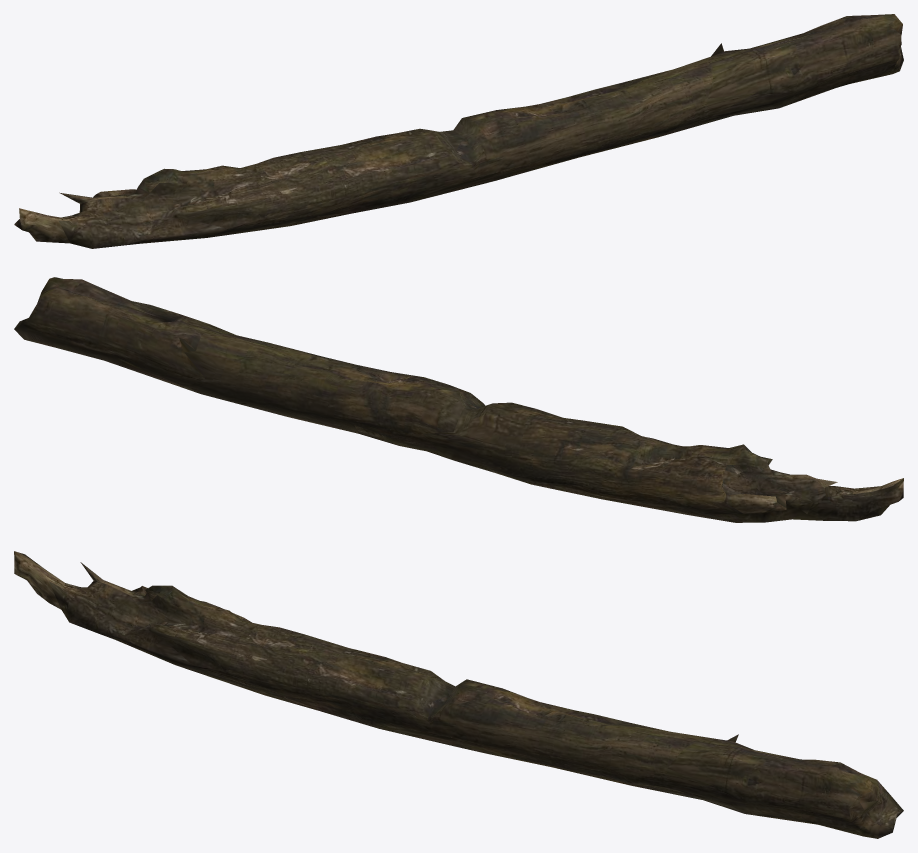
Rendered from log_fallen_02.glb.
3 views of the same model, one above another, from view 1: azimuth 30°, elevation 25°; view 2: azimuth 150°, elevation 25°; view 3: azimuth 330°, elevation 25° (orthographic).
Parts seen in each view (by area): view 1: log_fallen_02; view 2: log_fallen_02; view 3: log_fallen_02.
Part boxes in pixels (x1=…): log_fallen_02: x1=14, y1=14, x2=903, y2=248; log_fallen_02: x1=14, y1=277, x2=903, y2=522; log_fallen_02: x1=14, y1=551, x2=903, y2=838.
Size of the model in its own units: 3.04 by 0.2904 by 0.2748.
Materials: 1 (1 with a texture image).
